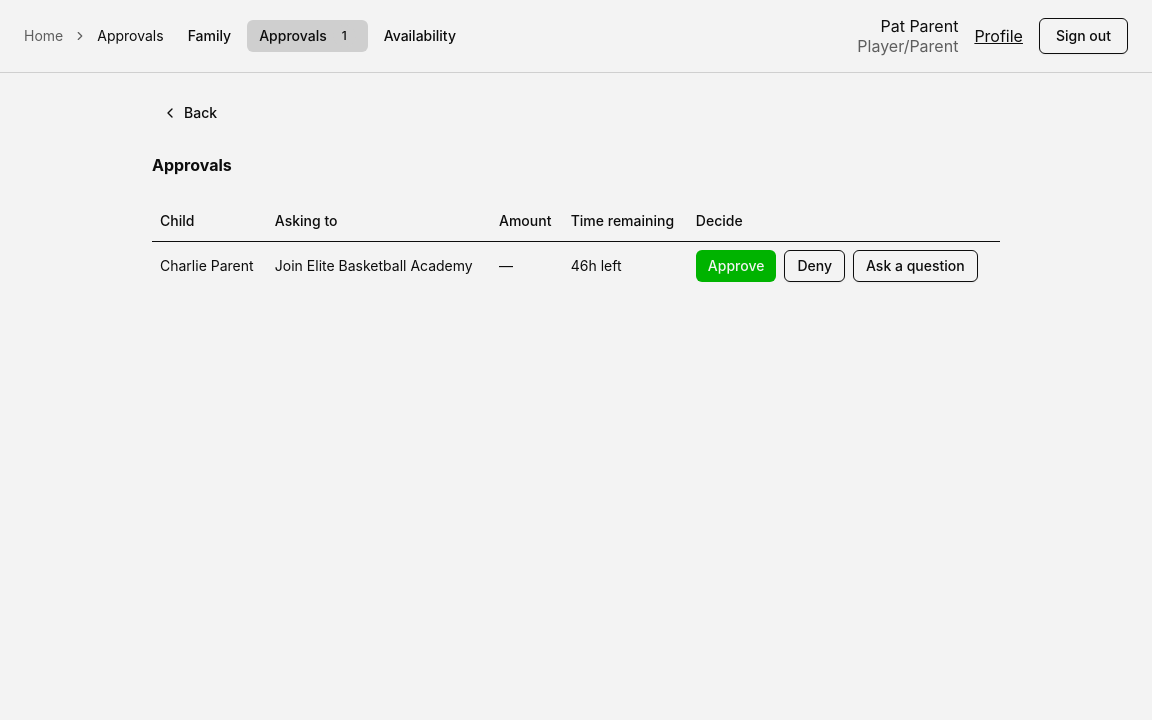
ApprovalsPage — the parent decision queue › a 409 refreshes the queue instead of showing an error
Click the button "Approve": (736, 266) [696,250,776,282]
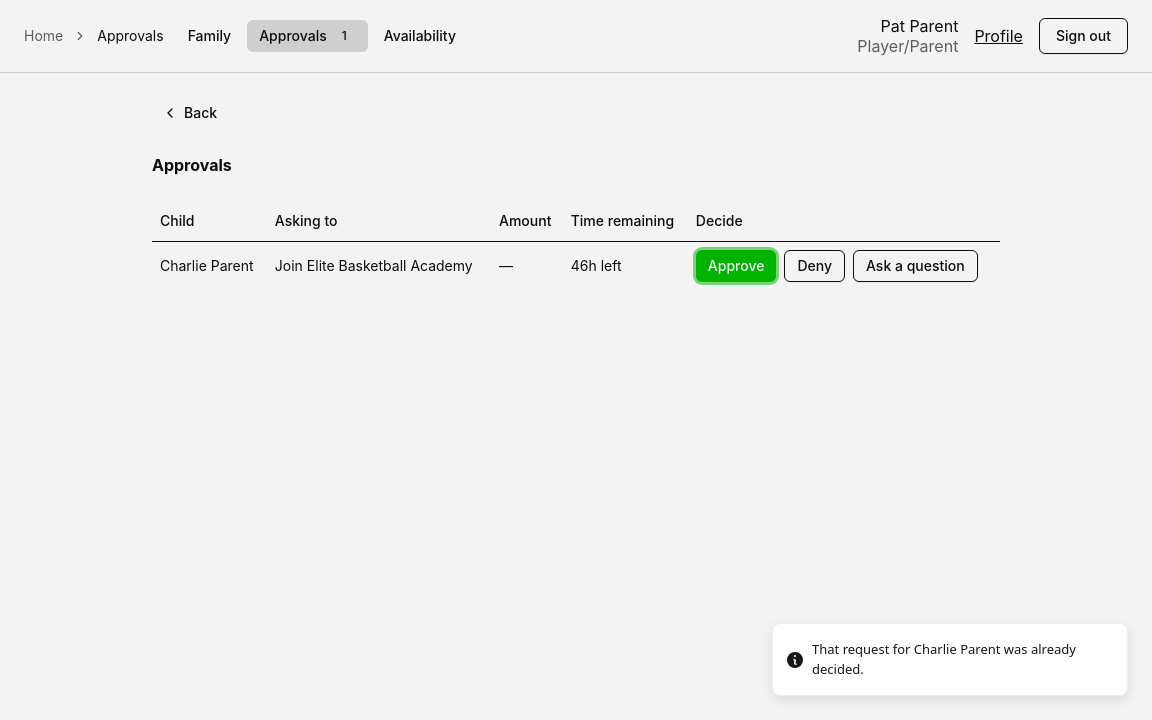
expect the text "That request for Charlie Parent was already decided." is shown: met, box [812,640,1111,679]
